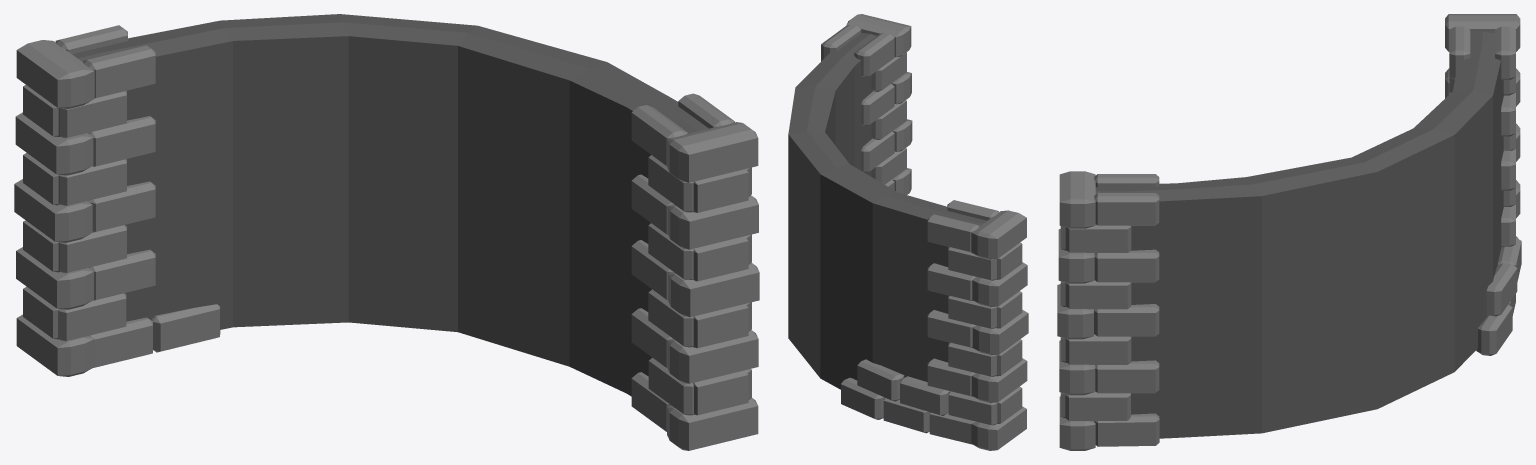
The model's file is DungeonWallRound.fbx.
The picture shows the model from 3 angles, left to right: view 1: azimuth 30°, elevation 25°; view 2: azimuth 150°, elevation 25°; view 3: azimuth 270°, elevation 25°; orthographic projection. The views are drawn at different scales.
Parts seen in each view (by area): view 1: DungeonWallRound; view 2: DungeonWallRound; view 3: DungeonWallRound.
Boxes of the visible parts, bbox=[...] form: DungeonWallRound: bbox=[14, 14, 759, 450]; DungeonWallRound: bbox=[788, 14, 1028, 450]; DungeonWallRound: bbox=[1057, 14, 1521, 450].
Bounding box in the file's own units: 568 × 350 × 583.
1 material, 1 textured.
